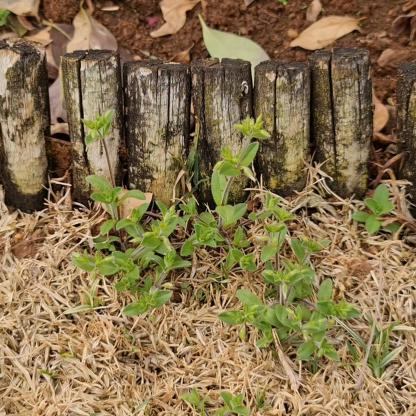Weeds: (74, 113, 361, 373), (350, 182, 405, 237)
